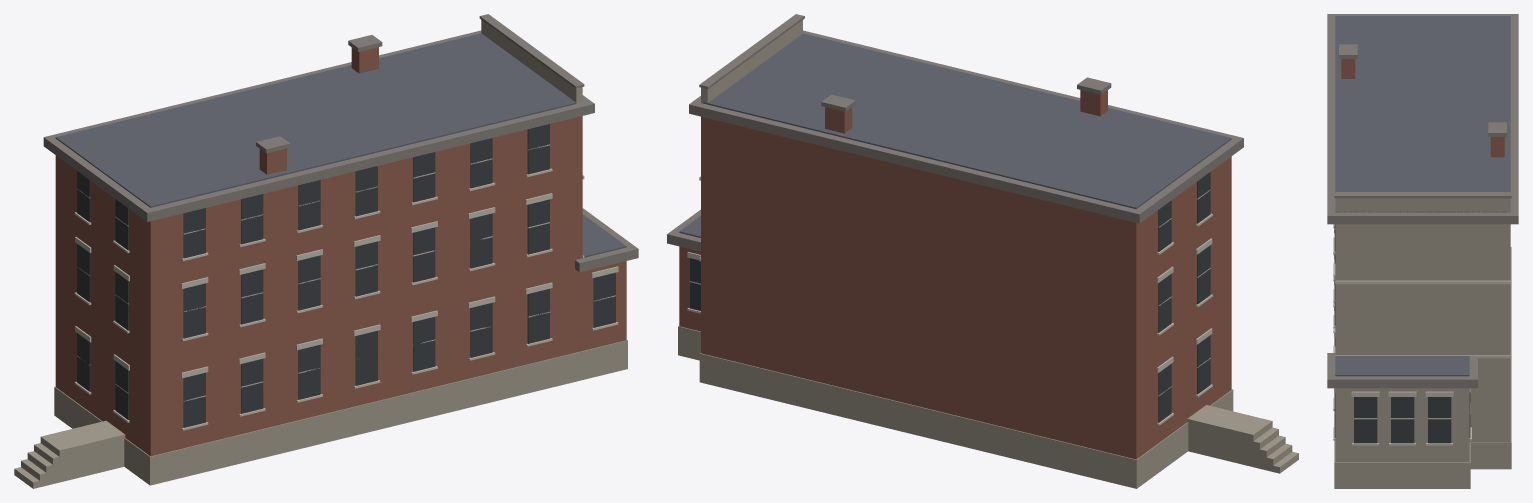
Rendered from house_1825_indiana__draft_1904.glb.
The picture shows the model from 3 angles, left to right: view 1: azimuth 30°, elevation 25°; view 2: azimuth 150°, elevation 25°; view 3: azimuth 270°, elevation 25°; orthographic projection. The views are drawn at different scales.
Parts seen in each view (by area): view 1: house_1825_indiana__draft_1904; view 2: house_1825_indiana__draft_1904; view 3: house_1825_indiana__draft_1904.
Part boxes in pixels (x1=…): house_1825_indiana__draft_1904: x1=14, y1=14, x2=638, y2=488; house_1825_indiana__draft_1904: x1=667, y1=14, x2=1298, y2=488; house_1825_indiana__draft_1904: x1=1327, y1=14, x2=1518, y2=488.
Size of the model in its own units: 26.3 by 13.34 by 8.2.
